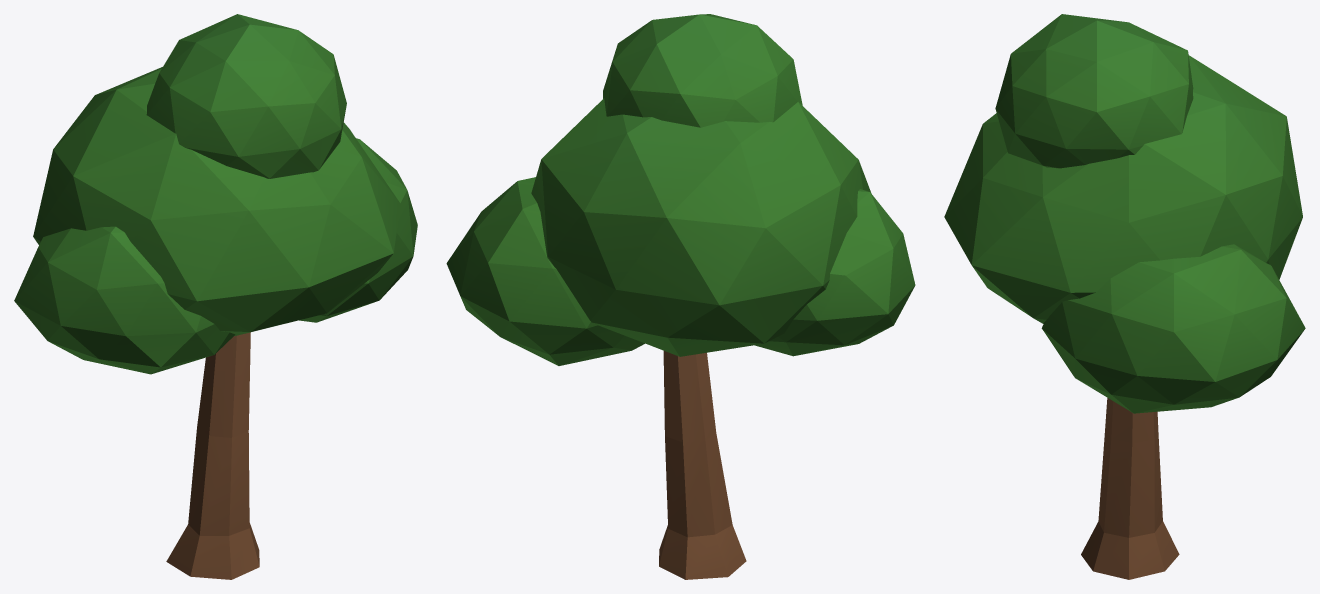
The model's file is Ghibli_Tree.glb.
3 renders of one model, left to right at view 1: azimuth 30°, elevation 25°; view 2: azimuth 150°, elevation 25°; view 3: azimuth 270°, elevation 25°, orthographic. The views are drawn at different scales.
Parts seen in each view (by area): view 1: GhibliTree; view 2: GhibliTree; view 3: GhibliTree.
Boxes of the visible parts, box(x1,y1,x2,y2) form: GhibliTree: box(14, 14, 417, 579); GhibliTree: box(446, 14, 915, 579); GhibliTree: box(944, 14, 1305, 579).
Size of the model in its own units: 3 by 3.76 by 2.25.
